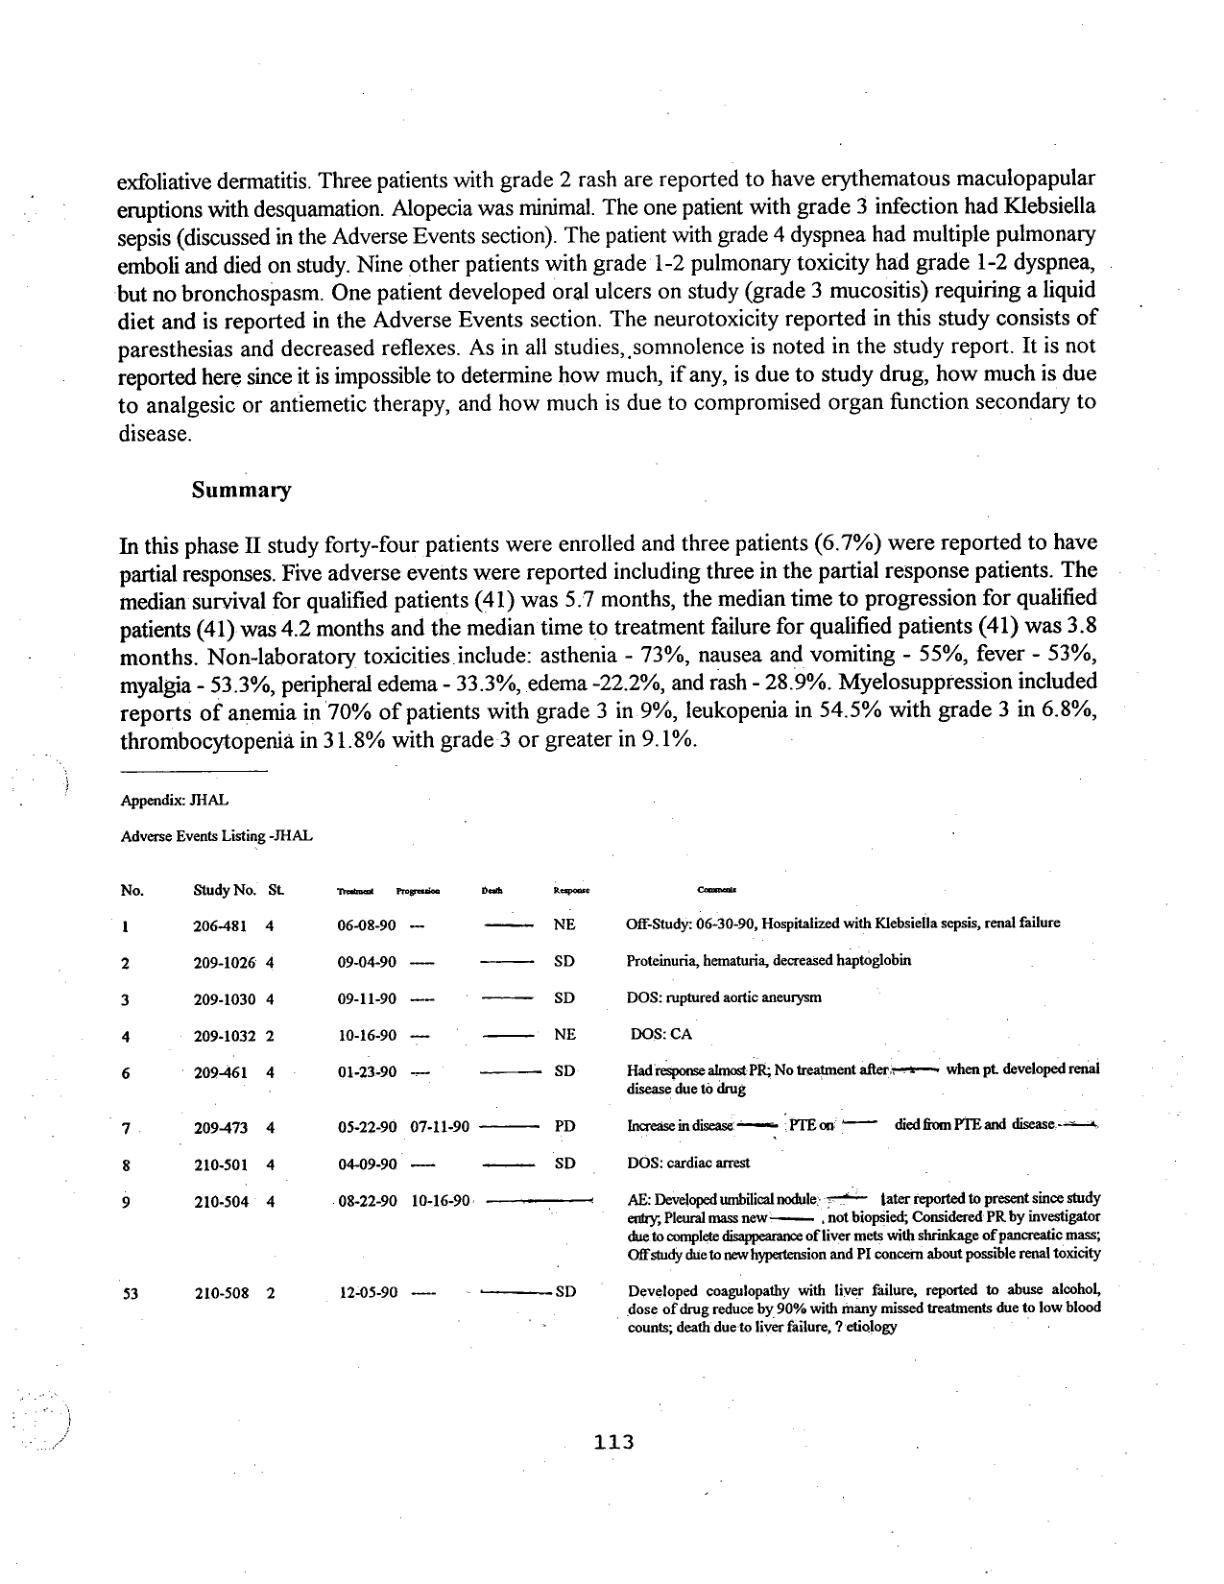nolines: (114, 878, 1102, 1338)
